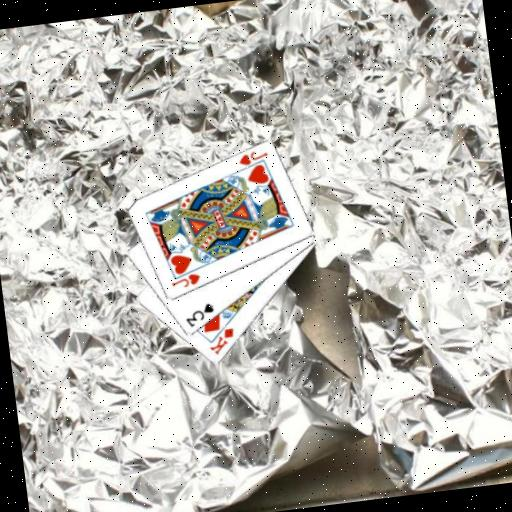3S: (181, 300, 217, 330)
JH: (168, 270, 203, 291), (235, 148, 270, 169)
KD: (204, 325, 238, 358)
